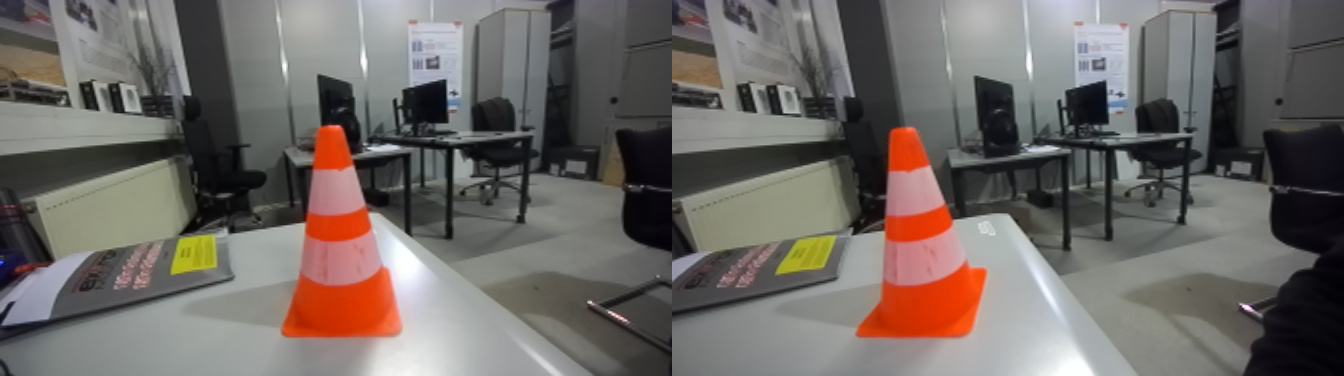cone: (850, 128, 995, 341), (286, 130, 408, 343)
